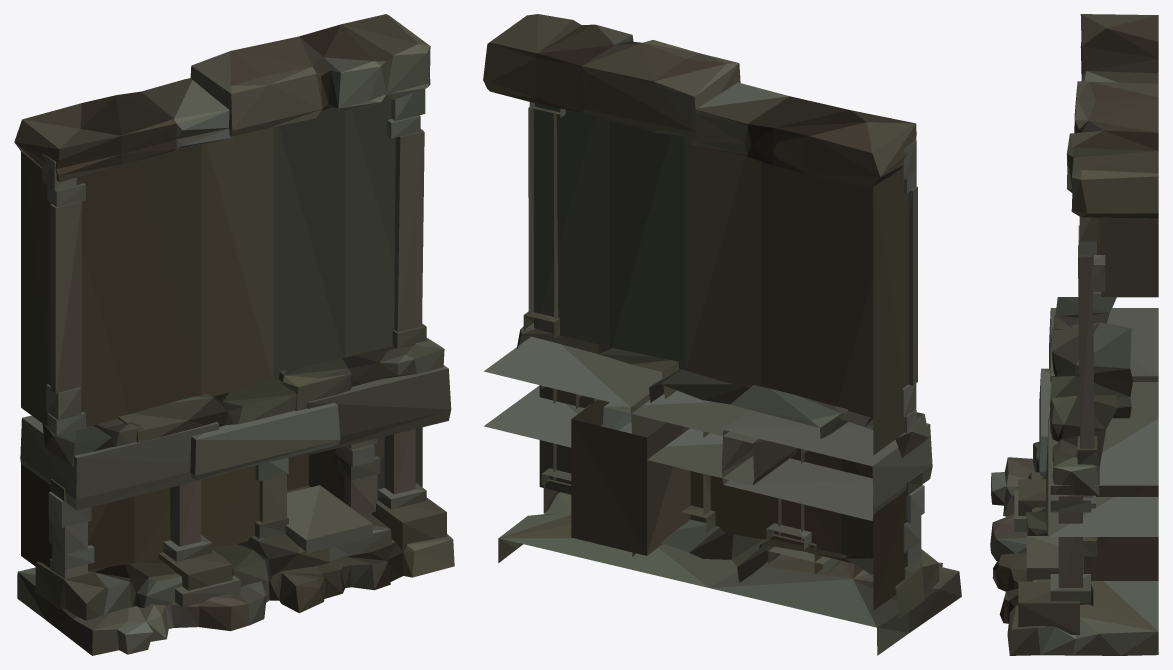
Rendered from wall_B_5m.fbx.
3 renders of one model, left to right at view 1: azimuth 30°, elevation 25°; view 2: azimuth 150°, elevation 25°; view 3: azimuth 270°, elevation 25°, orthographic. The views are drawn at different scales.
Parts seen in each view (by area): view 1: wall_B_5m; view 2: wall_B_5m; view 3: wall_B_5m.
Part boxes in pixels (x1,y1,x2,y2): wall_B_5m: (14, 14, 454, 655); wall_B_5m: (483, 14, 961, 655); wall_B_5m: (990, 14, 1158, 655).
Bounding box in the file's own units: 5.28 × 6.6 × 2.06.
